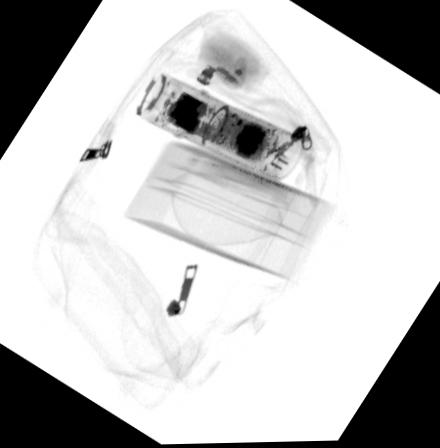Baton: (129, 71, 309, 185)
